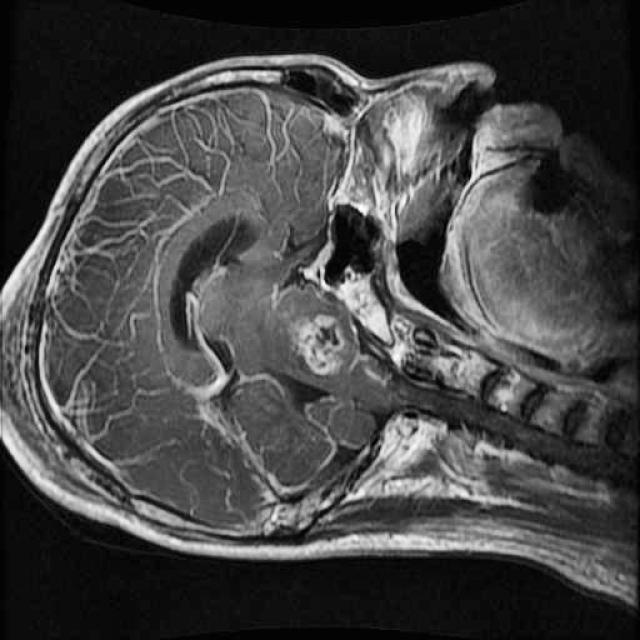Non-Tumor: (275, 289, 369, 391)
